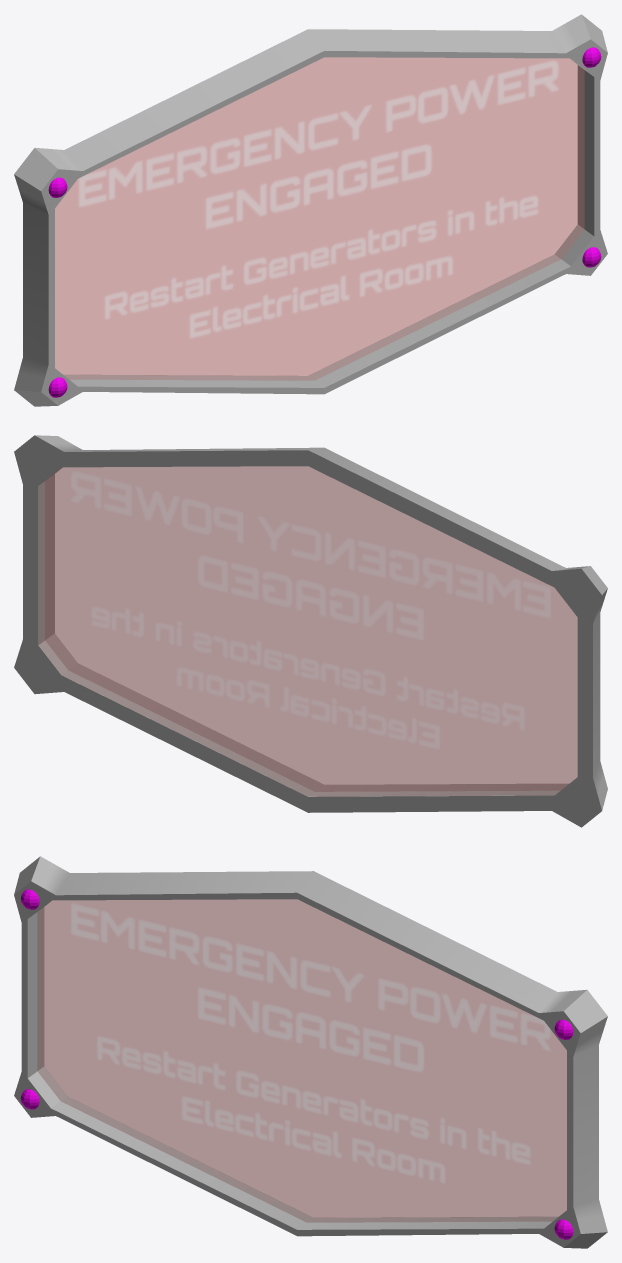
File: GAME3040 - Emergency Power Panel.fbx
3 views of the same model, one above another, from view 1: azimuth 30°, elevation 25°; view 2: azimuth 150°, elevation 25°; view 3: azimuth 330°, elevation 25° (orthographic).
Parts seen in each view (by area): view 1: Panel_Screen, Panel_Base; view 2: Panel_Screen, Panel_Base; view 3: Panel_Screen, Panel_Base.
Part boxes in pixels (box(x1,y1,x2,y2)): Panel_Screen: box(55, 57, 584, 380); Panel_Base: box(14, 14, 607, 406); Panel_Screen: box(39, 466, 577, 796); Panel_Base: box(14, 435, 607, 827); Panel_Screen: box(37, 899, 566, 1222); Panel_Base: box(14, 856, 607, 1248).
Size of the model in its own units: 10.29 by 6.06 by 0.6164.
3 materials, 1 textured.
